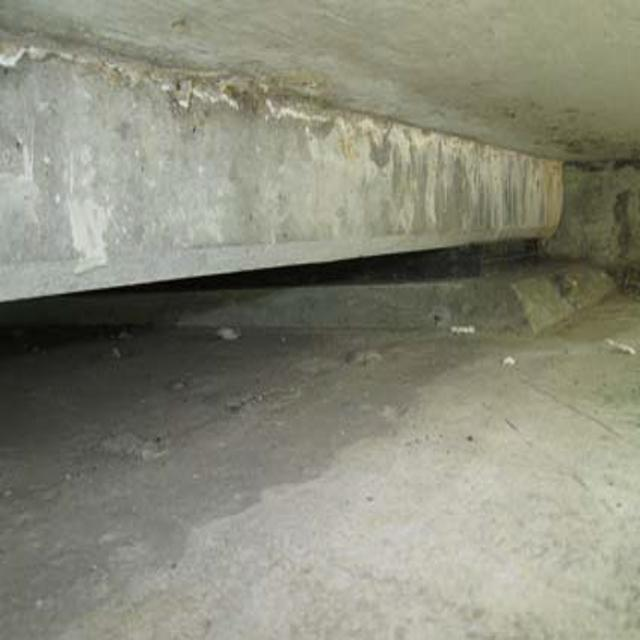freelime: (287, 91, 580, 233)
